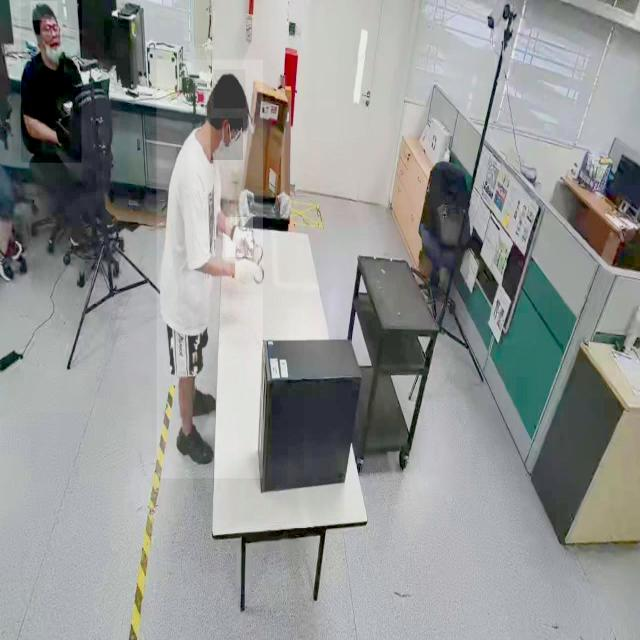face_mask: (211, 118, 243, 160)
face_nomask: (44, 20, 62, 54)
hand_glove: (230, 251, 262, 296), (225, 217, 253, 257)
head_nohelmet: (213, 70, 246, 108), (31, 1, 58, 20)
person: (156, 60, 264, 479), (21, 0, 82, 164)
shoes: (174, 421, 218, 471), (178, 381, 218, 423)
